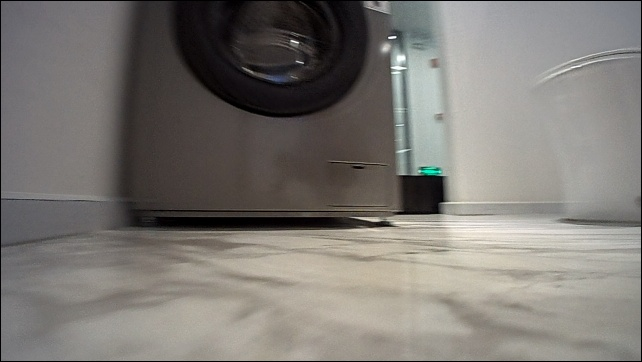toilet: (532, 47, 641, 223)
washing_machine: (125, 1, 402, 226)
